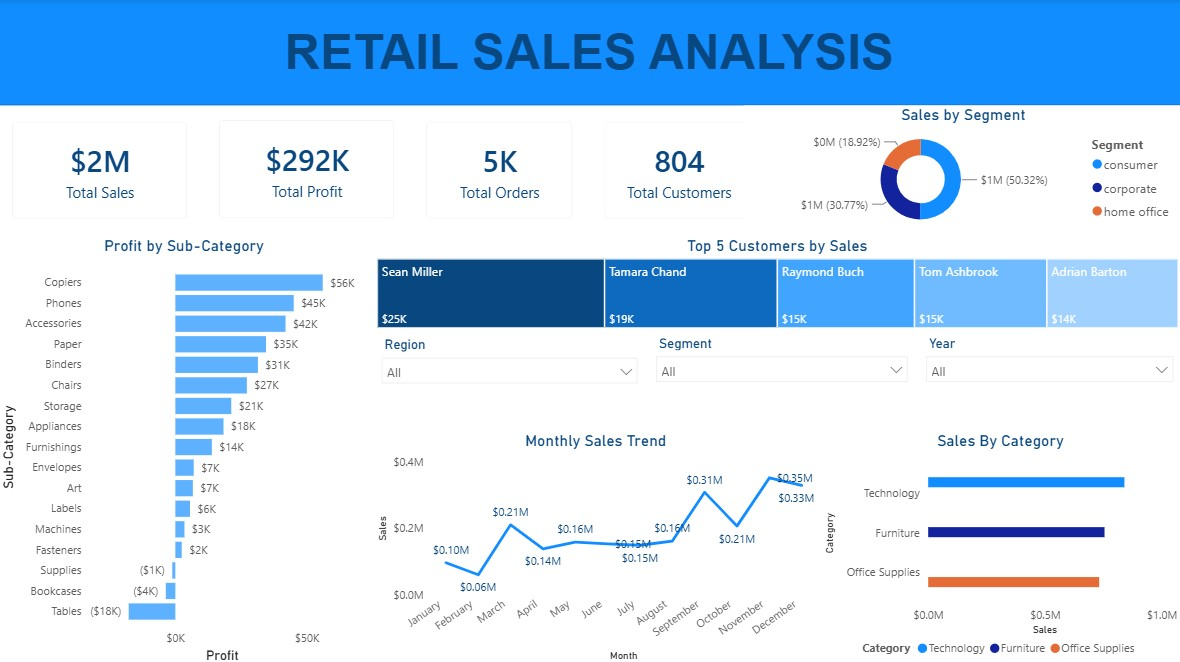

Layout of this report page (visuals, bound fields, positions):
{"tool":"powerbi","page":{"name":"RSA-Dashboard","canvas":[1280,720],"ordinal":0},"visuals":[{"type":"cardVisual","fields":{"Data":["Sum(cleaned_orders.Sales)"]},"box":[0,115,223.5,139.3],"z":0},{"type":"cardVisual","fields":{"Data":["Sum(cleaned_orders.Profit)"]},"box":[223.5,113.3,223.5,140.9],"z":1000},{"type":"cardVisual","fields":{"Data":["cleaned_orders.Total Orders"]},"box":[446.9,115,192.7,139.3],"z":2000},{"type":"cardVisual","fields":{"Data":["Count(cleaned_orders.Customer ID)"]},"box":[639.6,115,194.3,139.3],"z":3000},{"type":"shape","box":[0,0,1280.8,115],"z":4000},{"type":"clusteredBarChart","title":"Sales By Category","fields":{"Y":["Sum(cleaned_orders.Sales)"],"Category":["cleaned_orders.Category"],"Series":["cleaned_orders.Category"]},"box":[888.2,466.8,391.2,253.2],"z":5000},{"type":"lineChart","title":"Monthly Sales Trend","fields":{"Category":["cleaned_orders.Month-Year.Variation.Date Hierarchy.Month"],"Y":["Sum(cleaned_orders.Sales)"]},"box":[406.3,466.8,481.9,253.2],"z":6000},{"type":"clusteredBarChart","fields":{"Y":["Sum(cleaned_orders.Profit)"],"Category":["cleaned_orders.Sub-Category"]},"box":[0,255.1,406.3,464.9],"z":7000},{"type":"donutChart","fields":{"Category":["cleaned_orders.Segment"],"Y":["Sum(cleaned_orders.Sales)"]},"box":[808,115,472.8,139.3],"z":8000},{"type":"treemap","title":"Top 5 Customers by Sales","fields":{"Group":["cleaned_orders.Customer Name"],"Values":["Sum(cleaned_orders.Sales)"]},"box":[406.4,255.8,874.4,103.6],"z":9000},{"type":"slicer","fields":{"Values":["cleaned_orders.Region"]},"box":[406.4,359.5,296.3,103.6],"z":10000},{"type":"slicer","fields":{"Values":["cleaned_orders.Segment"]},"box":[702.7,357.8,291.5,105.2],"z":11000},{"type":"slicer","fields":{"Values":["cleaned_orders.Month-Year.Variation.Date Hierarchy.Year"]},"box":[994.2,357.8,286.6,103.6],"z":12000}]}

Visuals, with their boxes in screenshot pixels (x1, y1, x2, y2), scaled from the page's 1280x720 canvas onto the 1180x662 screenshot:
cardVisual - Sum(cleaned_orders.Sales): x1=0 y1=106 x2=206 y2=234
cardVisual - Sum(cleaned_orders.Profit): x1=206 y1=104 x2=412 y2=234
cardVisual - cleaned_orders.Total Orders: x1=412 y1=106 x2=590 y2=234
cardVisual - Count(cleaned_orders.Customer ID): x1=590 y1=106 x2=769 y2=234
shape: x1=0 y1=0 x2=1179 y2=106
"Sales By Category" clusteredBarChart: x1=819 y1=429 x2=1179 y2=661
"Monthly Sales Trend" lineChart: x1=375 y1=429 x2=819 y2=661
clusteredBarChart - Sum(cleaned_orders.Profit) x cleaned_orders.Sub-Category: x1=0 y1=235 x2=375 y2=661
donutChart - cleaned_orders.Segment x Sum(cleaned_orders.Sales): x1=745 y1=106 x2=1179 y2=234
"Top 5 Customers by Sales" treemap: x1=375 y1=235 x2=1179 y2=330
slicer - cleaned_orders.Region: x1=375 y1=331 x2=648 y2=426
slicer - cleaned_orders.Segment: x1=648 y1=329 x2=917 y2=426
slicer - cleaned_orders.Month-Year.Variation.Date Hierarchy.Year: x1=917 y1=329 x2=1179 y2=424
